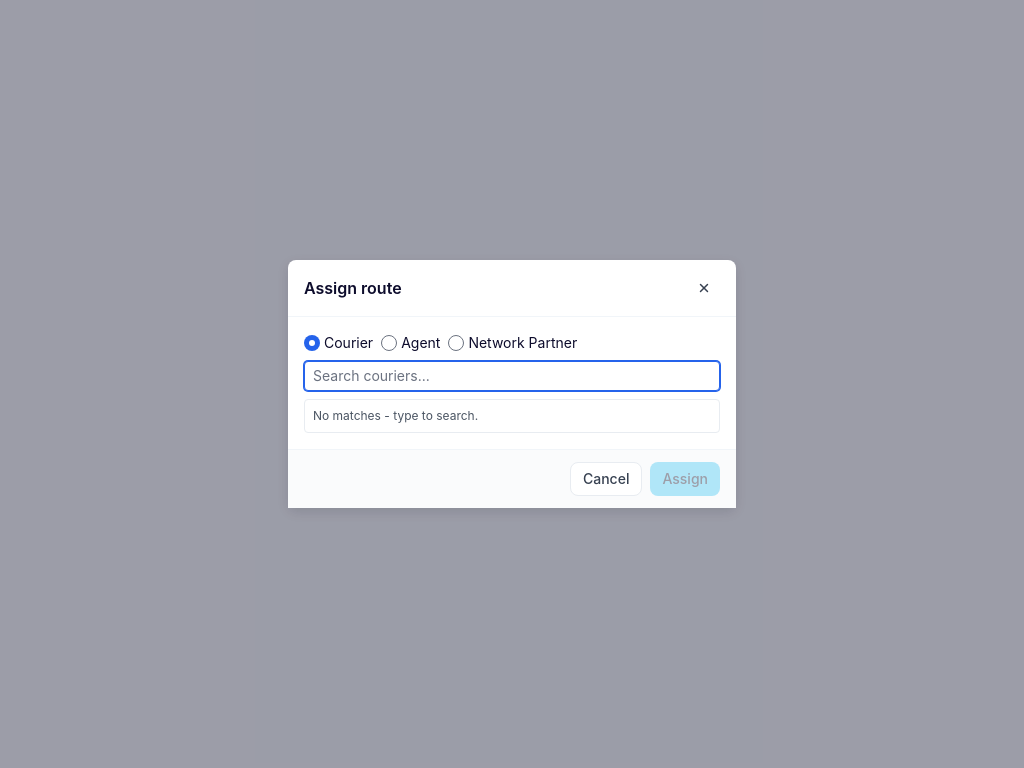
Test case: AssignRouteDialog › np tab hits /assignable-targets/agents with isNetworkPartner=true + limit=200
Click the radio button labelled "Network Partner" at [456, 343], box [448, 335, 464, 351]
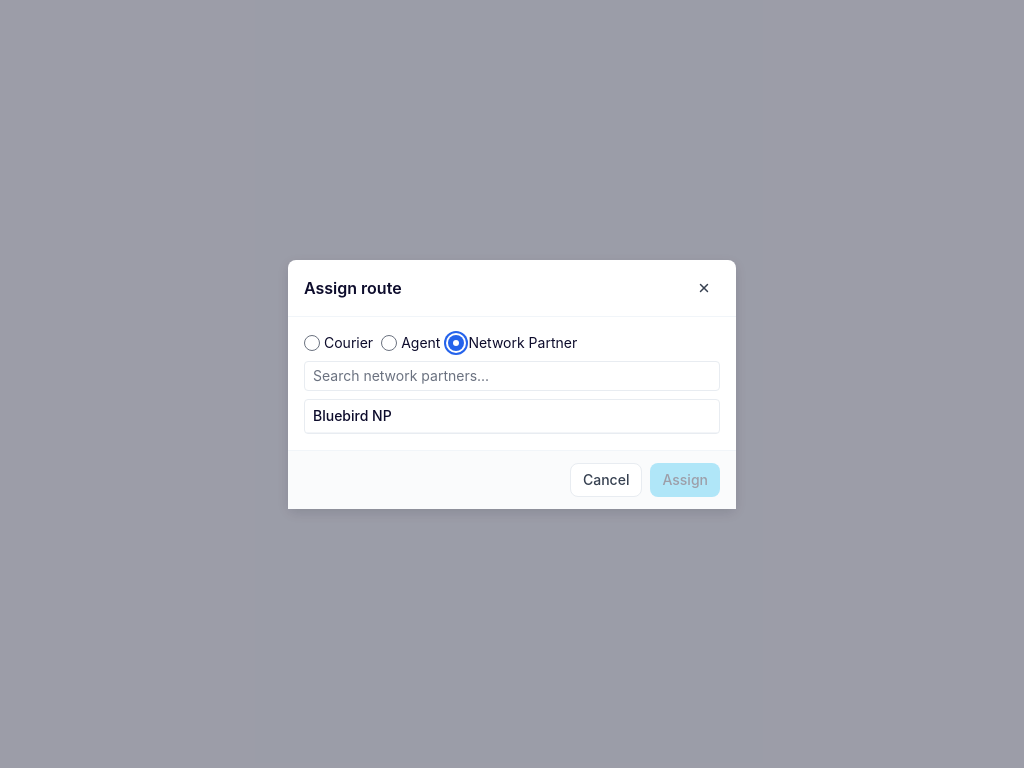
Now the button "Bluebird NP" is shown, box [305, 400, 719, 432]
